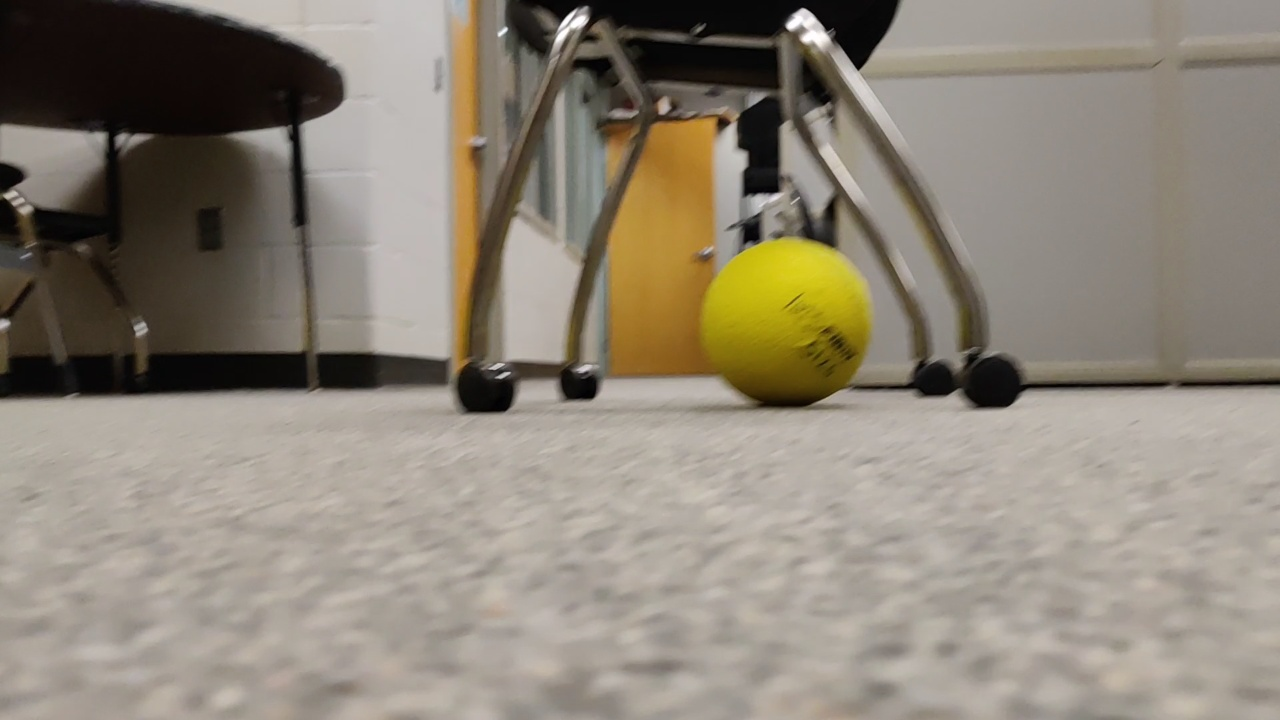Ball: (699, 237, 876, 399)
